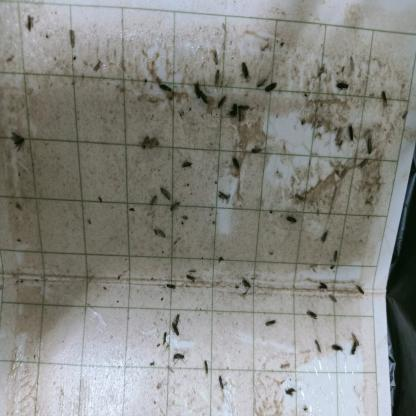prays_oleae: (12, 120, 30, 162), (250, 132, 269, 160), (376, 85, 392, 118), (346, 119, 360, 153), (349, 329, 361, 365), (337, 72, 353, 98), (366, 125, 376, 166), (184, 268, 201, 292), (313, 334, 326, 362), (283, 380, 298, 404), (219, 182, 235, 204), (209, 44, 222, 71), (226, 95, 238, 123), (228, 150, 242, 174), (353, 279, 368, 301), (214, 372, 229, 394), (263, 78, 281, 96), (160, 75, 174, 98), (169, 193, 184, 214), (305, 303, 318, 326), (240, 59, 251, 86), (156, 221, 168, 245), (180, 155, 196, 173), (147, 189, 161, 208), (286, 208, 298, 230), (240, 271, 252, 293), (199, 85, 209, 111), (215, 92, 228, 112), (200, 349, 210, 375), (158, 184, 172, 202), (191, 78, 201, 102), (162, 279, 178, 294), (333, 338, 344, 359), (326, 292, 338, 311), (170, 322, 182, 340), (265, 312, 278, 328), (212, 66, 221, 89), (318, 274, 328, 294), (175, 350, 186, 368), (174, 308, 183, 326), (318, 230, 328, 245), (332, 246, 338, 263)
